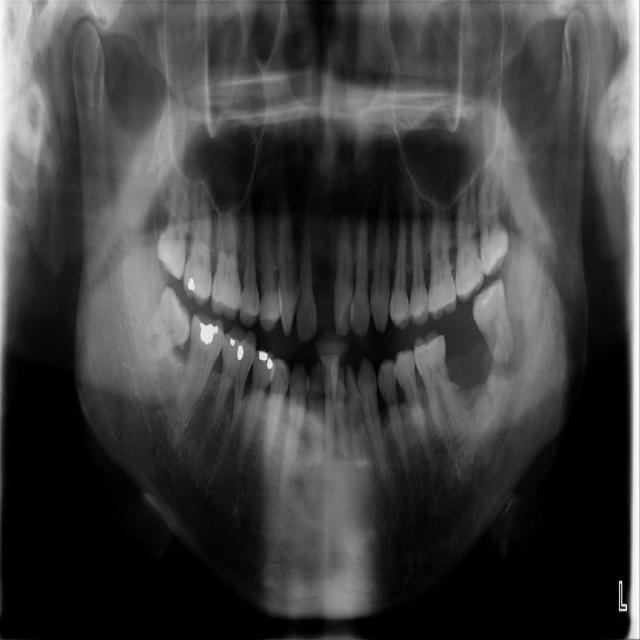Filling: (201, 321, 218, 344), (259, 351, 273, 369), (237, 345, 244, 360), (188, 278, 194, 291), (230, 337, 234, 345)
Missing teeth: (445, 304, 494, 392), (314, 294, 334, 311)
Periapical lesion: (486, 319, 527, 379)
impacted tooth: (128, 284, 189, 365), (478, 163, 507, 277), (158, 177, 188, 276)
